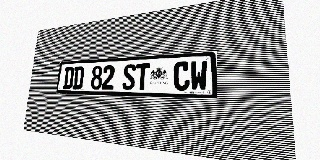2: (101, 65, 115, 90)
8: (90, 65, 103, 89)
C: (173, 61, 190, 91)
D: (72, 66, 84, 89), (63, 67, 74, 89)
S: (122, 64, 136, 90)
T: (135, 63, 150, 90)
W: (190, 60, 208, 91)
